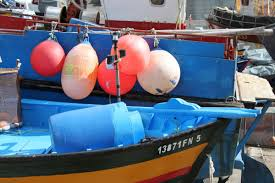buoy: (98, 57, 136, 94), (111, 35, 149, 71), (30, 40, 64, 77)
